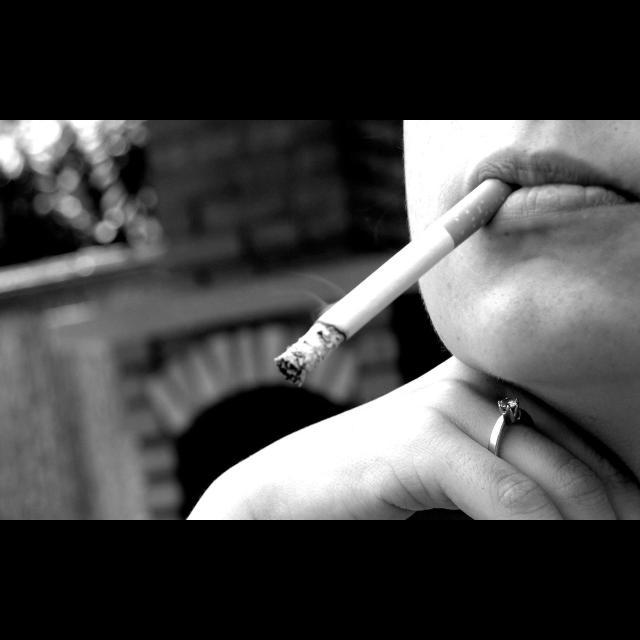rokok: (277, 166, 515, 382)
